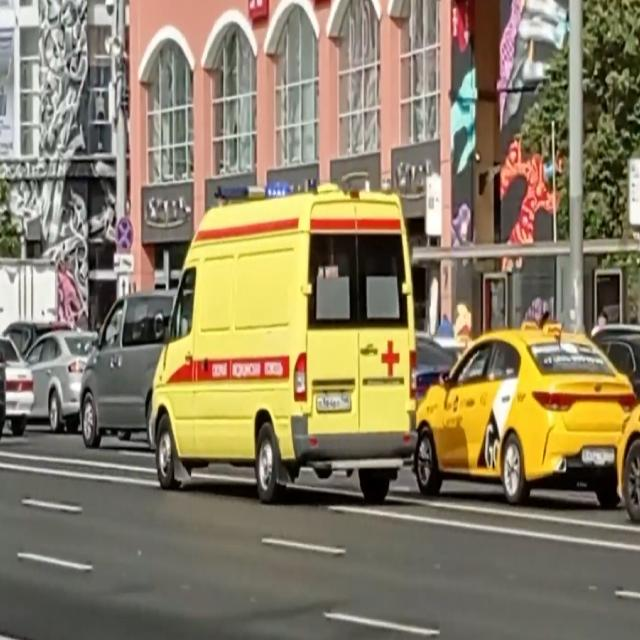intensive care unit: (151, 187, 420, 504)
non emergency car: (418, 319, 636, 505), (75, 296, 178, 449), (12, 317, 100, 436)
